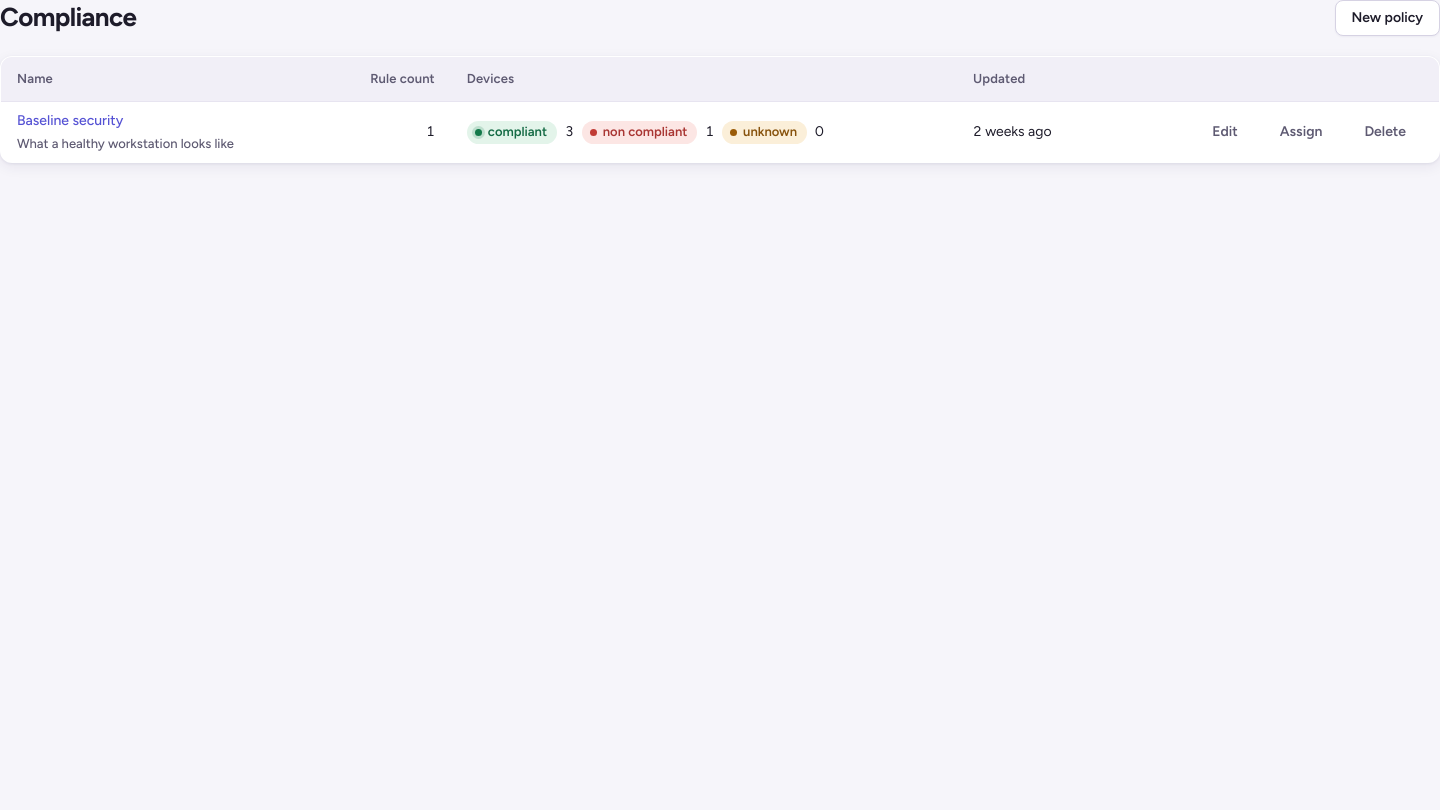
Test: Compliance › will not let every firewall profile be unticked
Expected: the button "Baseline security" is shown, [17, 110, 123, 132]
Click the button "New policy" at coordinates (1387, 18), box [1334, 0, 1439, 36]
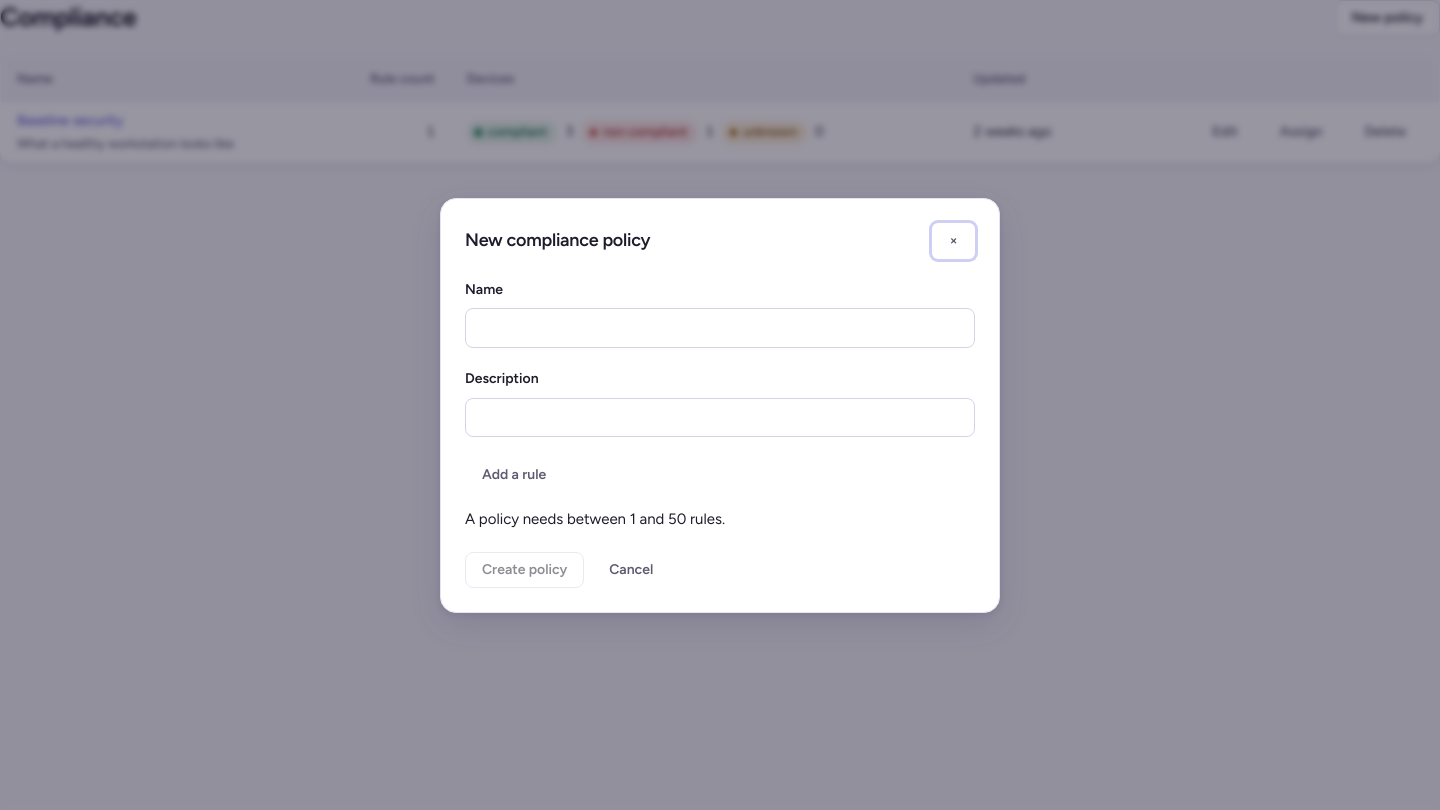
Type "Nothing" into the field labelled "Name" at coordinates (720, 328), box [465, 308, 975, 348]
Click the button "Add a rule" at coordinates (514, 475), box [465, 457, 563, 493]
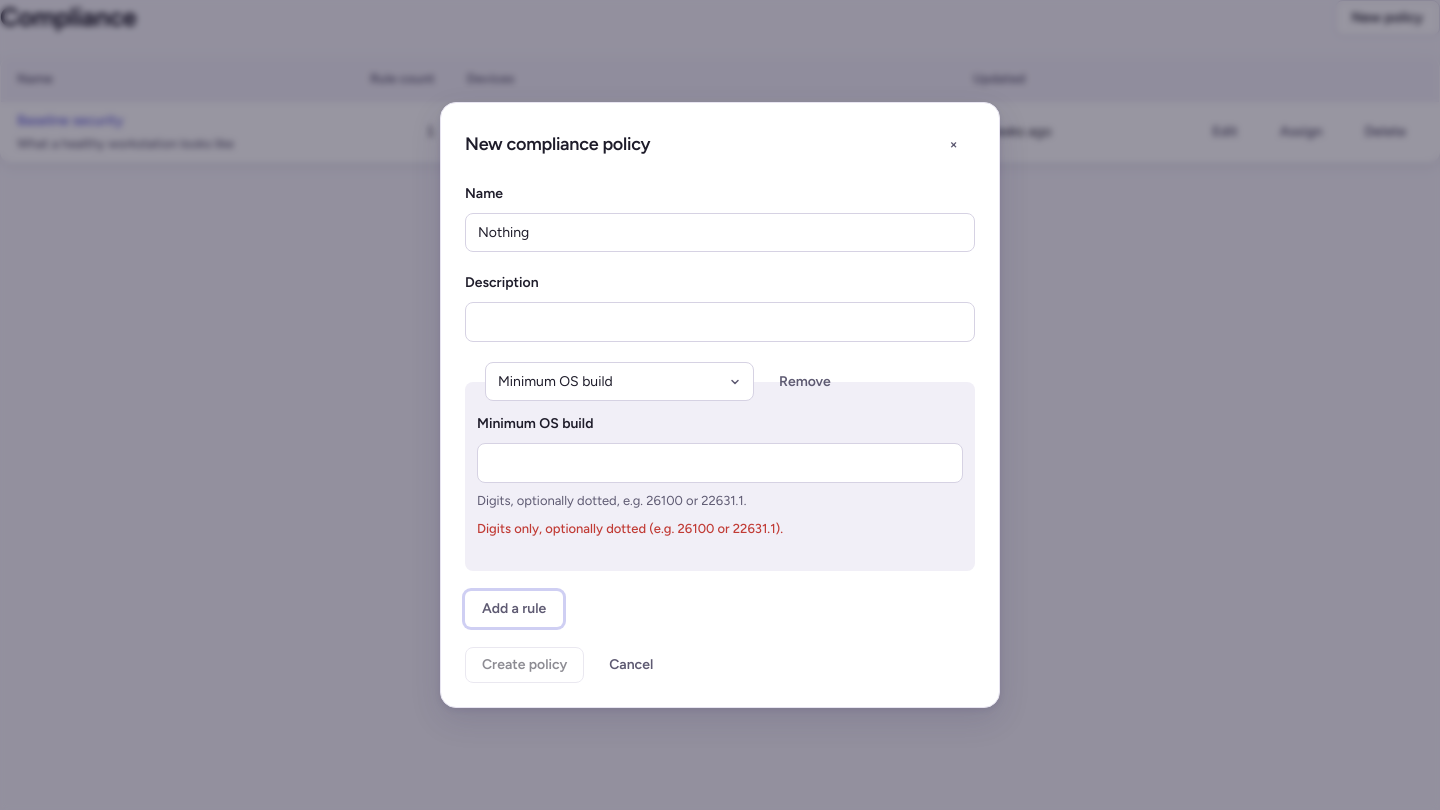
Select "Firewall on" in the dropdown named "Rule 1 type" at coordinates (620, 382), box [485, 362, 754, 401]
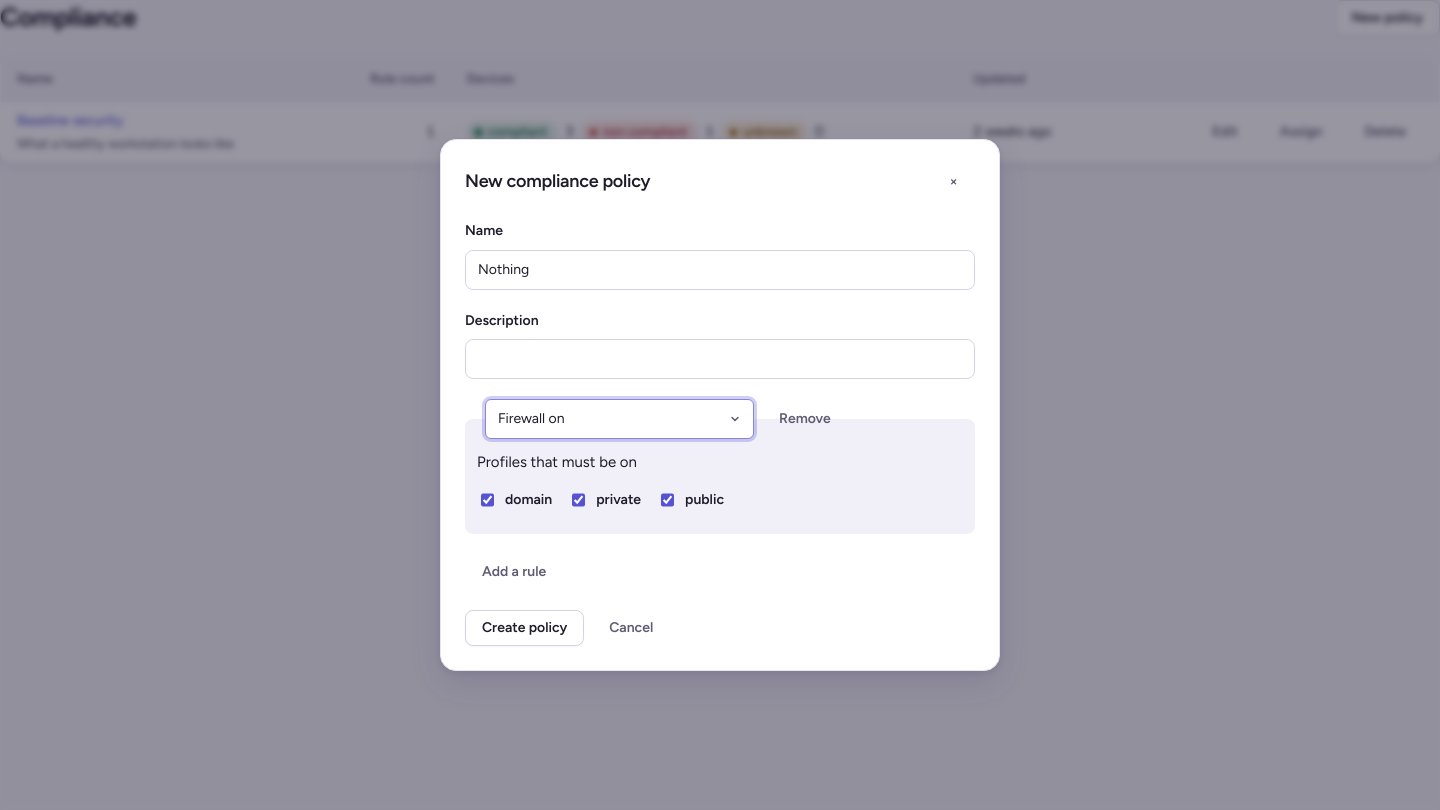
Click the checkbox labelled "domain" at coordinates (488, 500), box [481, 481, 494, 519]
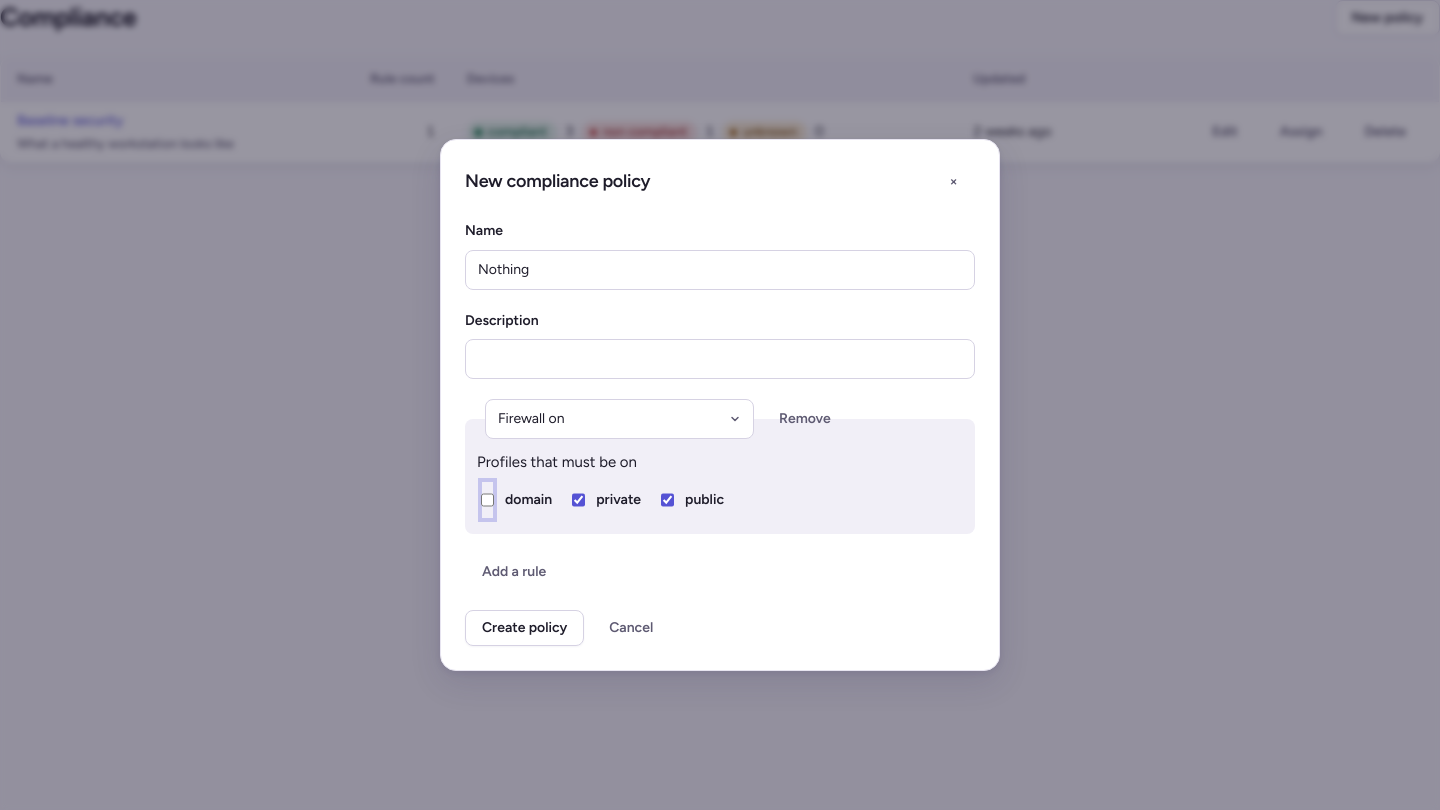
Click the checkbox labelled "private" at coordinates (579, 500), box [572, 481, 585, 519]
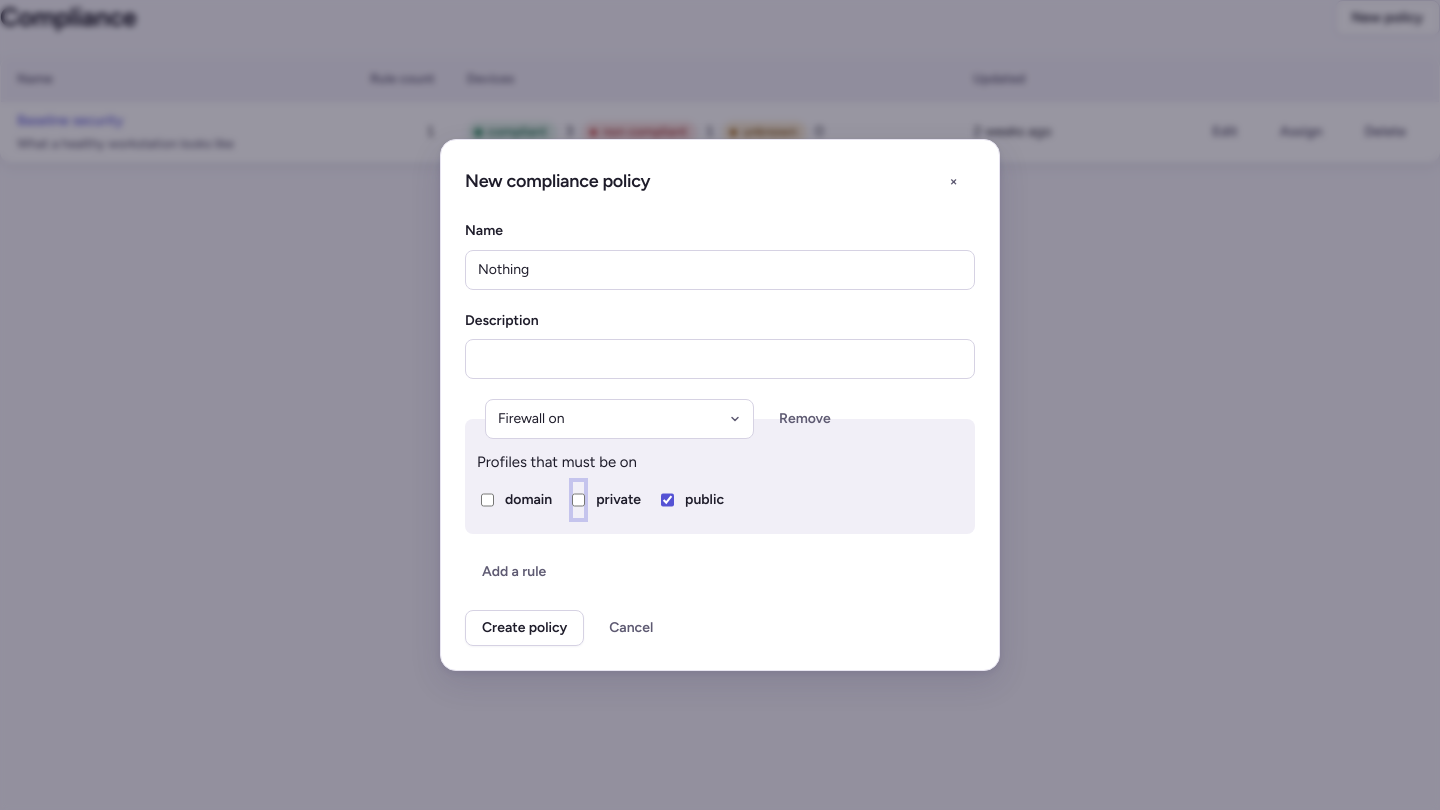
Click the checkbox labelled "public" at coordinates (668, 500), box [661, 481, 674, 519]
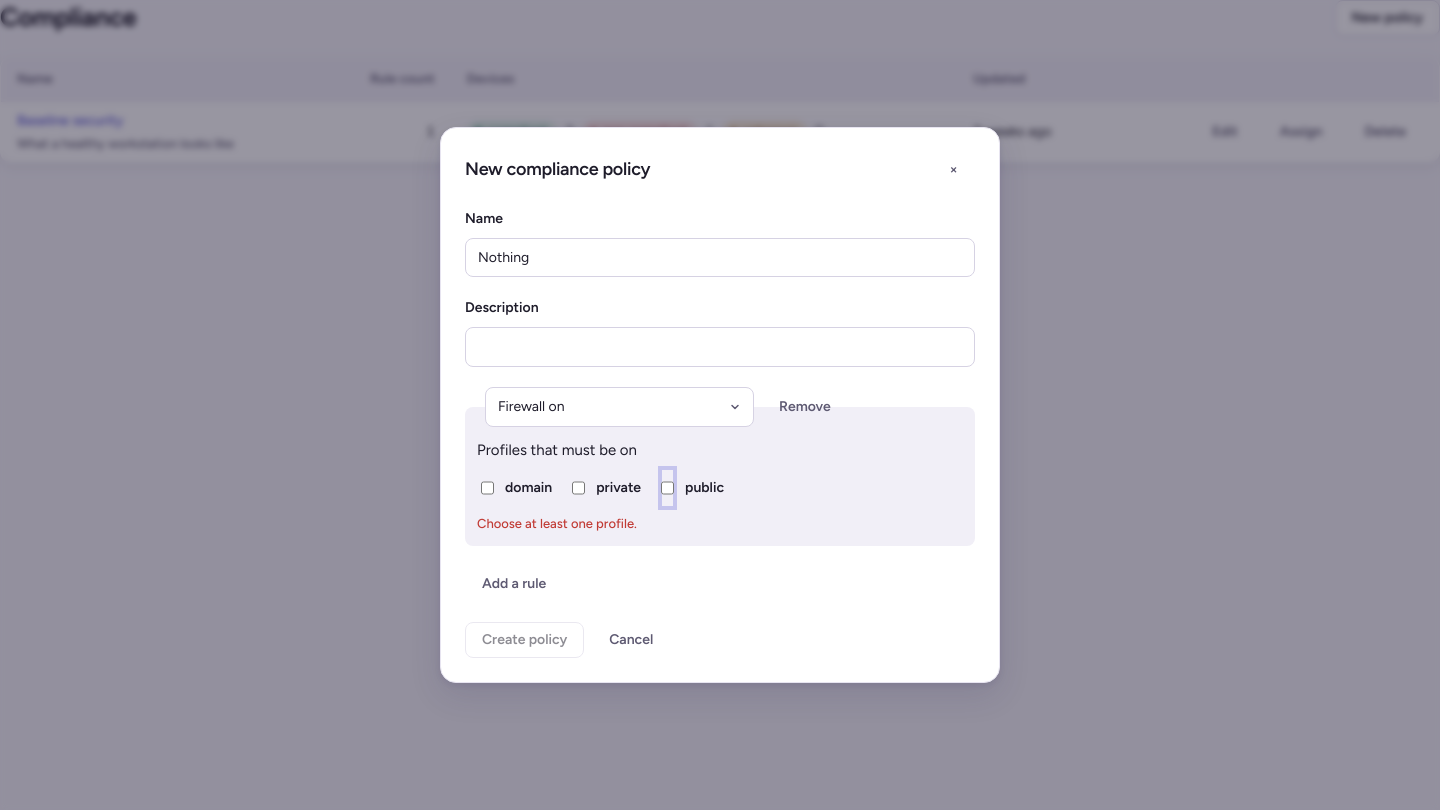
Now the text "Choose at least one profile." is shown, box [477, 516, 637, 531]
Now the button "Create policy" is disabled, box [465, 622, 584, 658]
